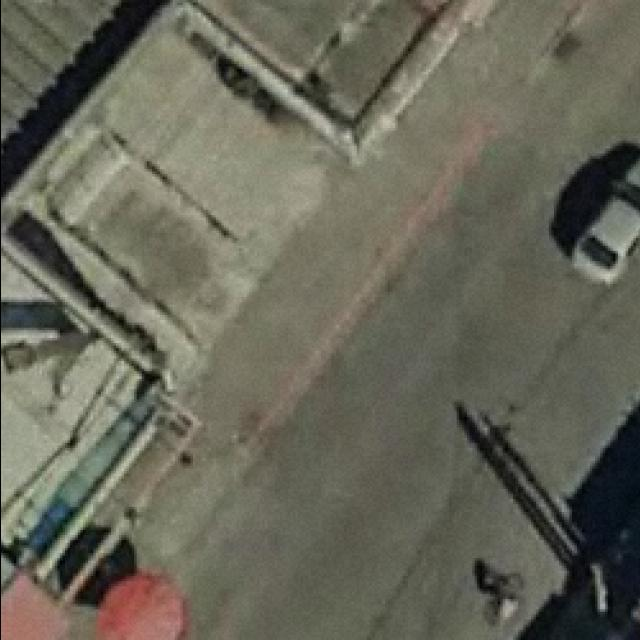vendedor_ambulante: (87, 574, 187, 640)
